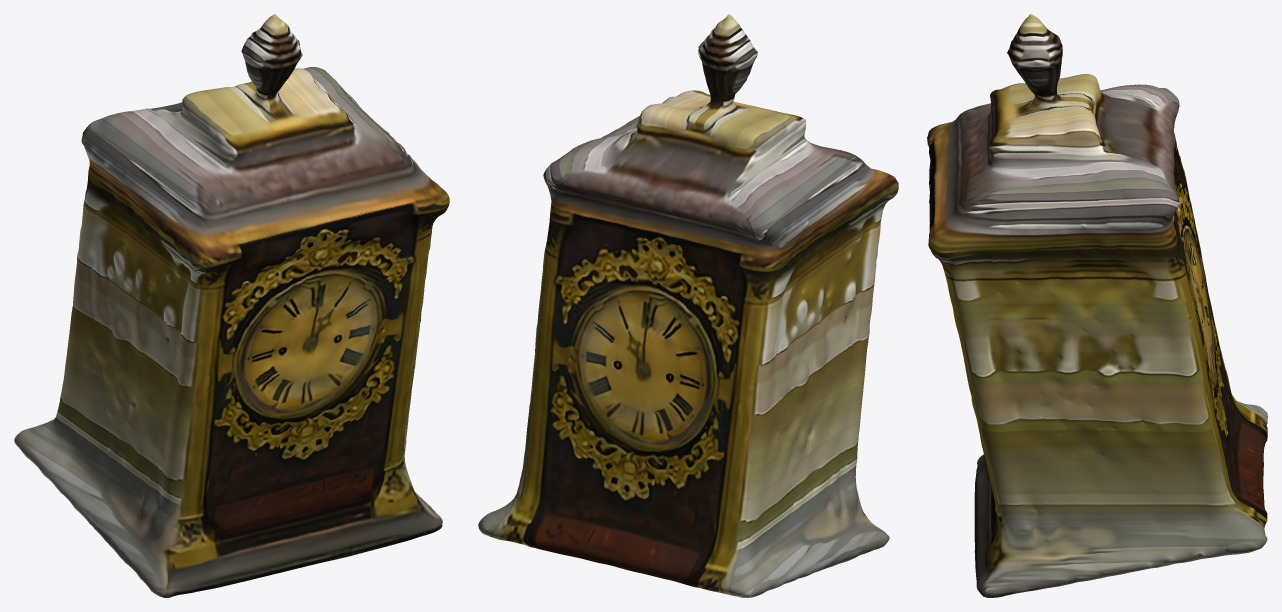
The model's file is kfl-2140.glb.
3 views of the same model, side by side, from view 1: azimuth 30°, elevation 25°; view 2: azimuth 150°, elevation 25°; view 3: azimuth 270°, elevation 25° (orthographic). The views are drawn at different scales.
Parts seen in each view (by area): view 1: kfl-2140; view 2: kfl-2140; view 3: kfl-2140.
Boxes of the visible parts, x1,y1,x2,y2 form: kfl-2140: (14,14,449,597); kfl-2140: (478,14,898,597); kfl-2140: (927,14,1267,597).
Bounding box in the file's own units: 0.5581 × 0.9897 × 0.5866.
1 material, 1 textured.
